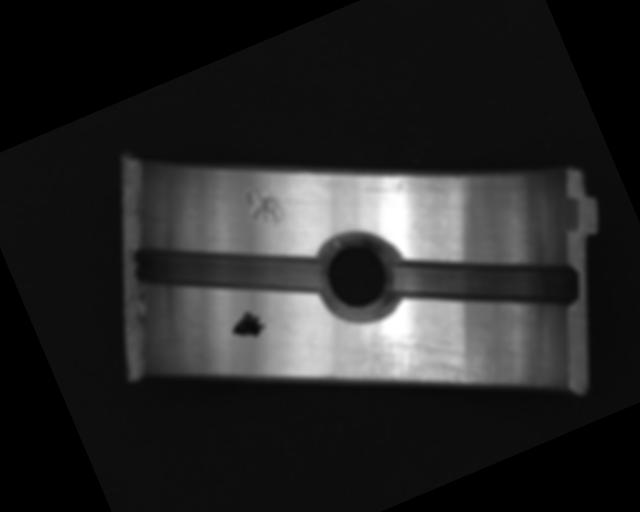blot: (224, 303, 269, 346)
bruise: (237, 179, 290, 238)
gap: (385, 195, 589, 363), (128, 186, 329, 352)
hole: (307, 219, 411, 334)
scratch: (335, 293, 501, 436)
